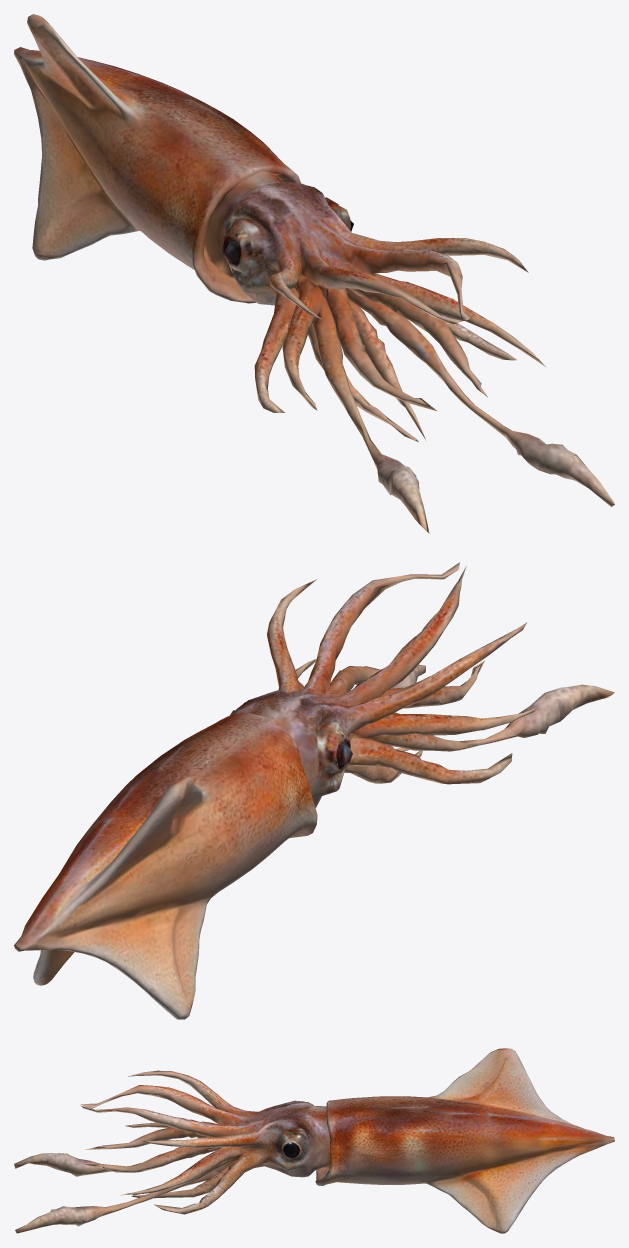
Rendered from squid.glb.
3 renders of one model, top to bottom at view 1: azimuth 30°, elevation 25°; view 2: azimuth 150°, elevation 25°; view 3: azimuth 270°, elevation 25°, orthographic. The views are drawn at different scales.
Visible parts, largest first — view 1: tripo_node_a89477aa-f3fb-4f18-9adf-e1997833a1a4; view 2: tripo_node_a89477aa-f3fb-4f18-9adf-e1997833a1a4; view 3: tripo_node_a89477aa-f3fb-4f18-9adf-e1997833a1a4.
Part boxes in pixels (<box>): tripo_node_a89477aa-f3fb-4f18-9adf-e1997833a1a4: <box>14,14,614,533</box>; tripo_node_a89477aa-f3fb-4f18-9adf-e1997833a1a4: <box>14,562,614,1019</box>; tripo_node_a89477aa-f3fb-4f18-9adf-e1997833a1a4: <box>14,1048,614,1233</box>.
Size of the model in its own units: 0.2747 by 0.2632 by 1.
Materials: 1 (1 with a texture image).
